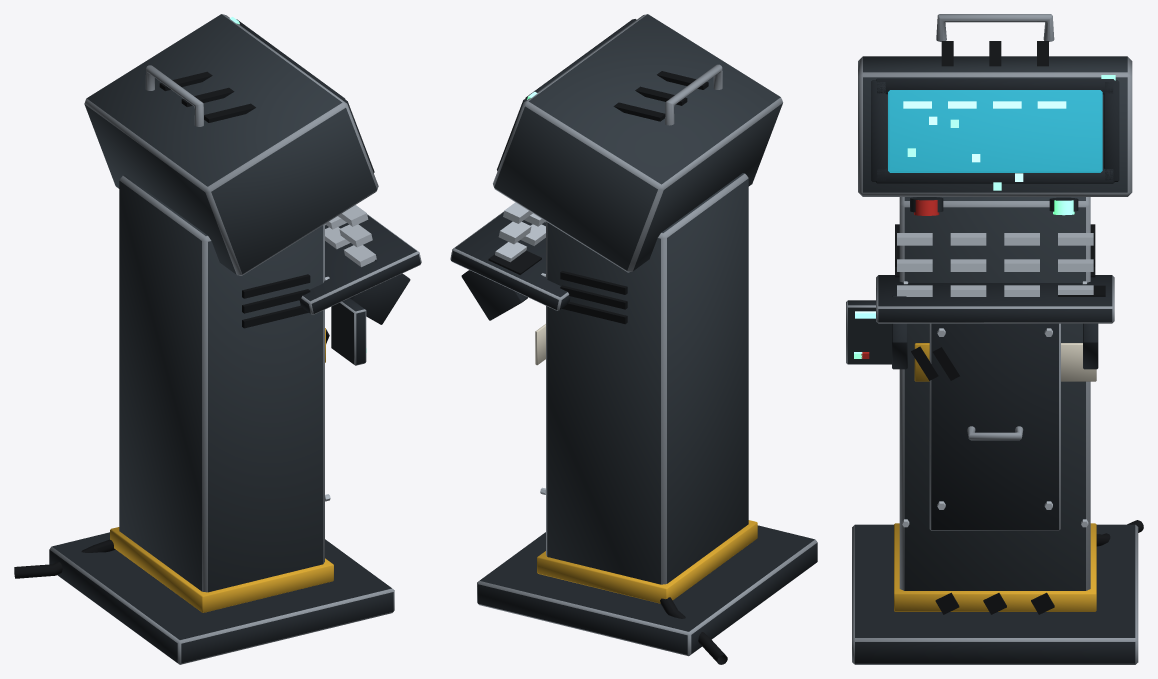
The model's file is terminal_consola.glb.
3 renders of one model, left to right at view 1: azimuth 30°, elevation 25°; view 2: azimuth 150°, elevation 25°; view 3: azimuth 270°, elevation 25°, orthographic. The views are drawn at different scales.
Parts seen in each view (by area): view 1: columna, cabeza, base, teclado, banda_peligro, lector, soporte_teclado_1, asa_superior, cable, lama_lateral_3, lama_lateral_2, lama_lateral_1; view 2: columna, cabeza, base, banda_peligro, teclado, soporte_teclado_2, asa_superior, cable, lama_lateral_6, almohadilla, lama_lateral_5, lama_lateral_4; view 3: columna, puerta_servicio, base, pantalla, cabeza, teclado, banda_peligro, marco_2, marco_1, lector, marco_4, marco_3 (+14 smaller).
Boxes of the visible parts, <box> form: columna: <box>119,175,324,592</box>; cabeza: <box>84,14,378,275</box>; base: <box>49,532,394,664</box>; teclado: <box>299,214,421,314</box>; banda_peligro: <box>110,527,333,612</box>; lector: <box>331,298,366,365</box>; soporte_teclado_1: <box>350,259,410,324</box>; asa_superior: <box>145,65,203,126</box>; cable: <box>14,539,115,578</box>; lama_lateral_3: <box>242,274,310,298</box>; lama_lateral_2: <box>242,289,310,313</box>; lama_lateral_1: <box>242,305,308,328</box>; columna: <box>546,173,748,584</box>; cabeza: <box>493,14,782,272</box>; base: <box>477,525,817,656</box>; banda_peligro: <box>537,520,757,603</box>; teclado: <box>450,211,570,310</box>; soporte_teclado_2: <box>461,270,527,320</box>; asa_superior: <box>665,64,722,125</box>; cable: <box>660,597,727,664</box>; lama_lateral_6: <box>560,271,627,294</box>; almohadilla: <box>488,250,541,274</box>; lama_lateral_5: <box>560,285,627,309</box>; lama_lateral_4: <box>562,302,627,324</box>; columna: <box>899,197,1090,590</box>; puerta_servicio: <box>929,323,1060,530</box>; base: <box>852,524,1138,664</box>; pantalla: <box>888,90,1102,172</box>; cabeza: <box>858,56,1132,196</box>; teclado: <box>876,275,1114,323</box>; banda_peligro: <box>894,523,1096,611</box>; marco_2: <box>876,78,1114,94</box>; marco_1: <box>876,168,1114,183</box>; lector: <box>846,300,891,364</box>; marco_4: <box>1103,80,1119,181</box>; marco_3: <box>871,80,886,181</box>.
Bounding box in the file's own units: 0.6158 × 1.05 × 0.4991.
